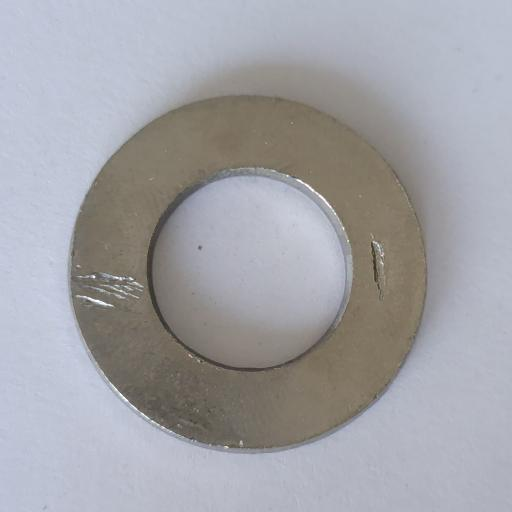scratch: (70, 265, 145, 310), (371, 241, 386, 303)
